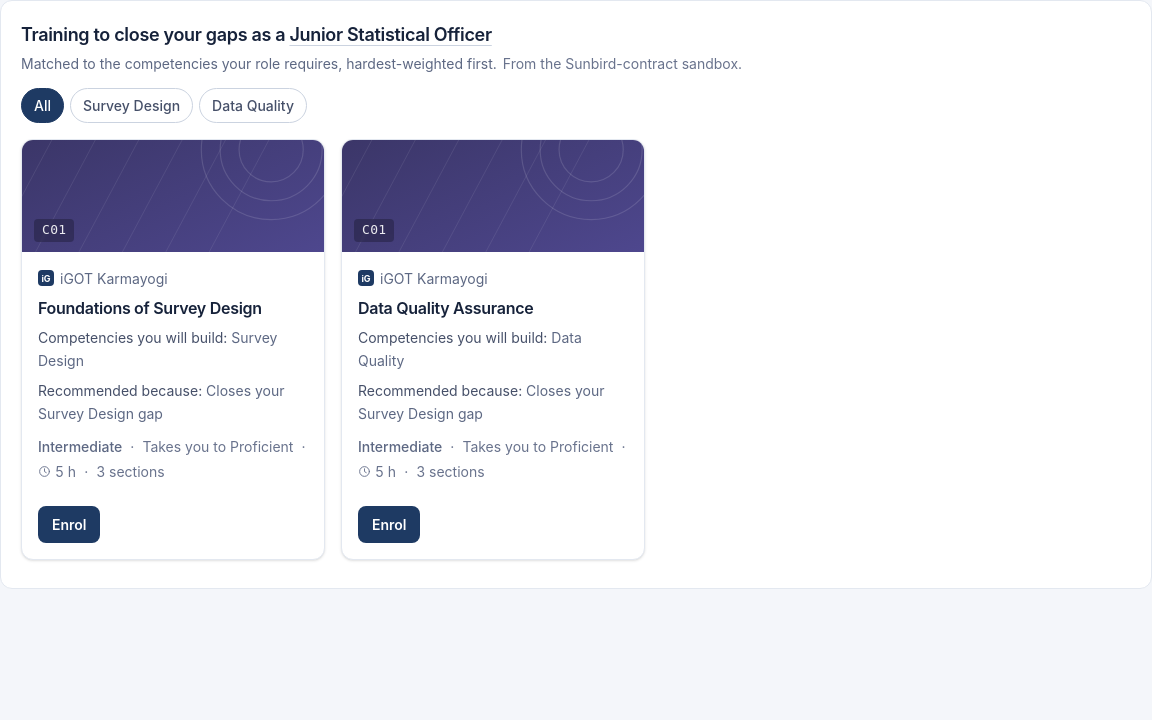
Test: RecommendationShelf › returns to everything from a filter
The width and height of the screenshot is (1152, 720).
Click the button "Data Quality": (253, 105) [199,88,307,123]
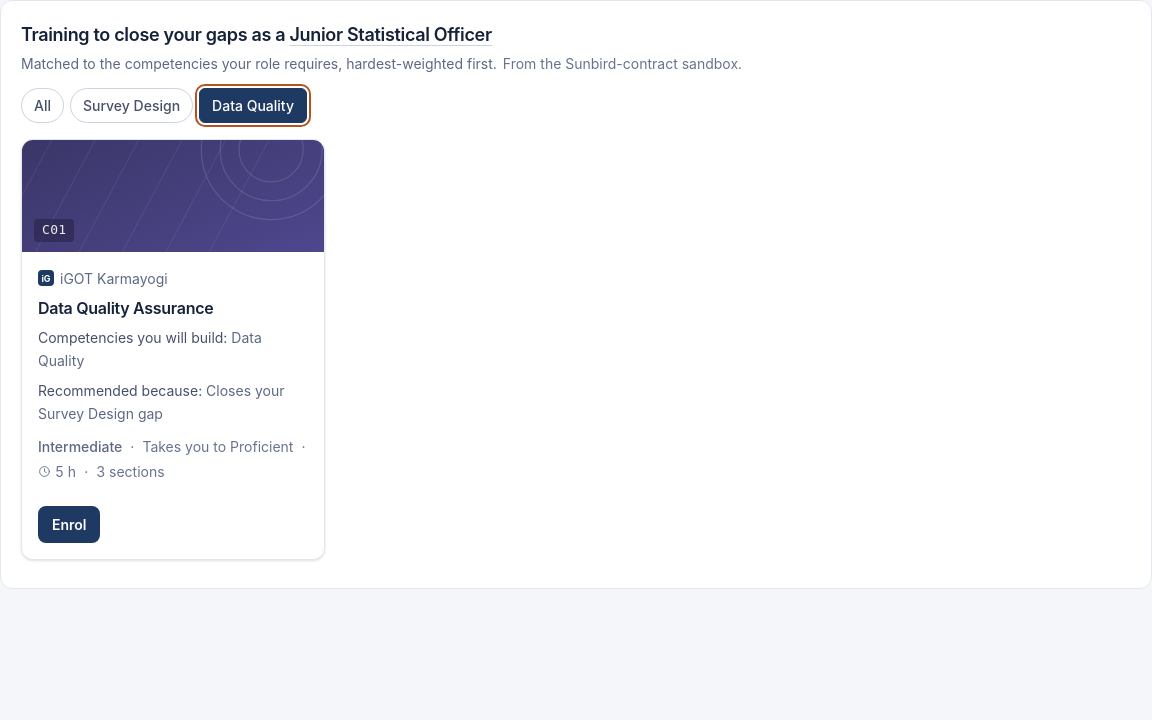
Click the button "All": (42, 105) [21,88,64,123]
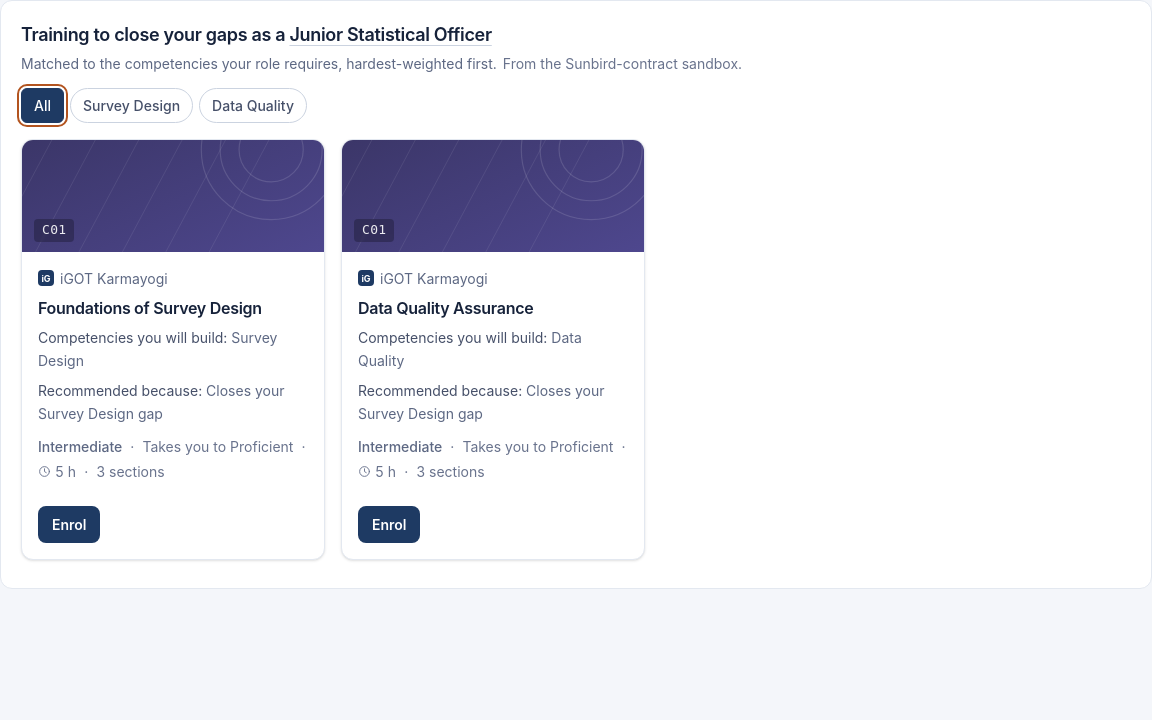
Check: the heading "Foundations of Survey Design" is shown, box [38,298,262,318]
